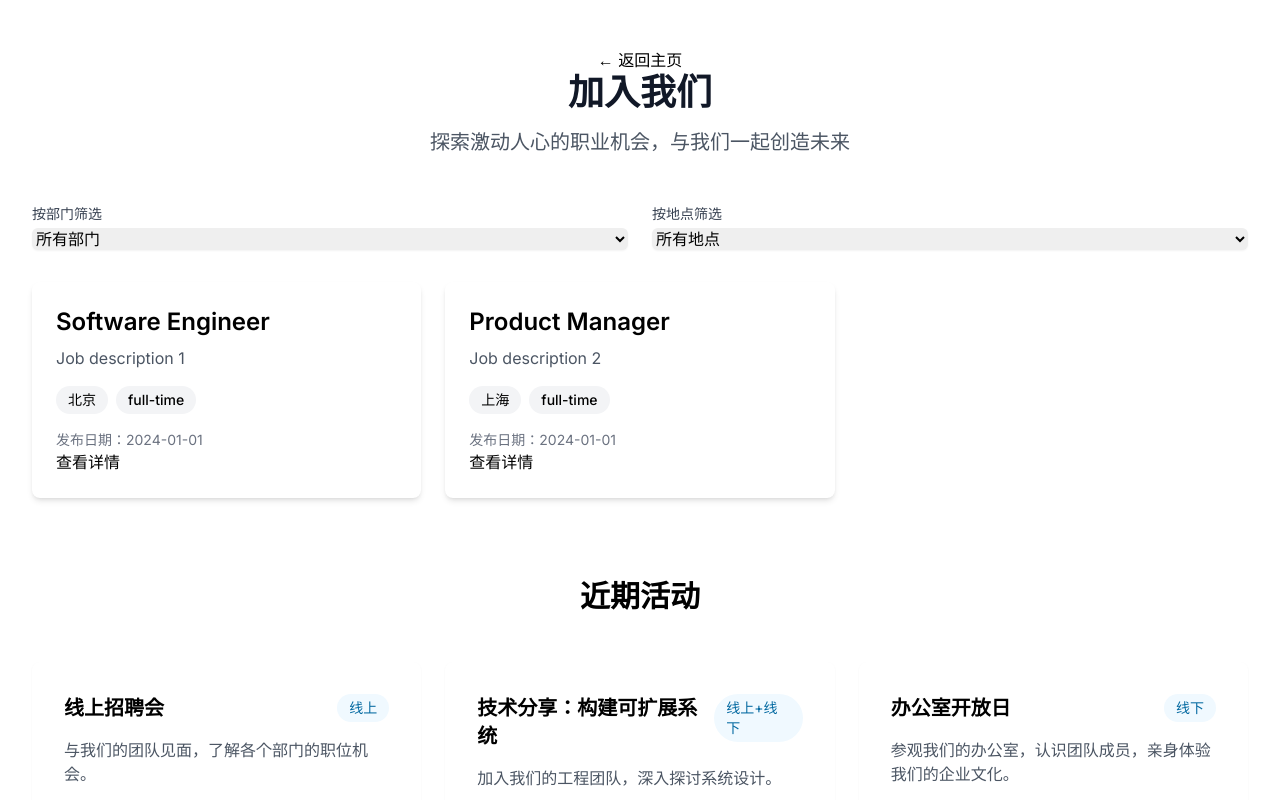
JobsPage › filters jobs by department
The width and height of the screenshot is (1280, 800).
# Select engineering department
Step 1. Select "技术研发" in the dropdown labelled "按部门筛选" → [330, 239], box [32,228,628,250]
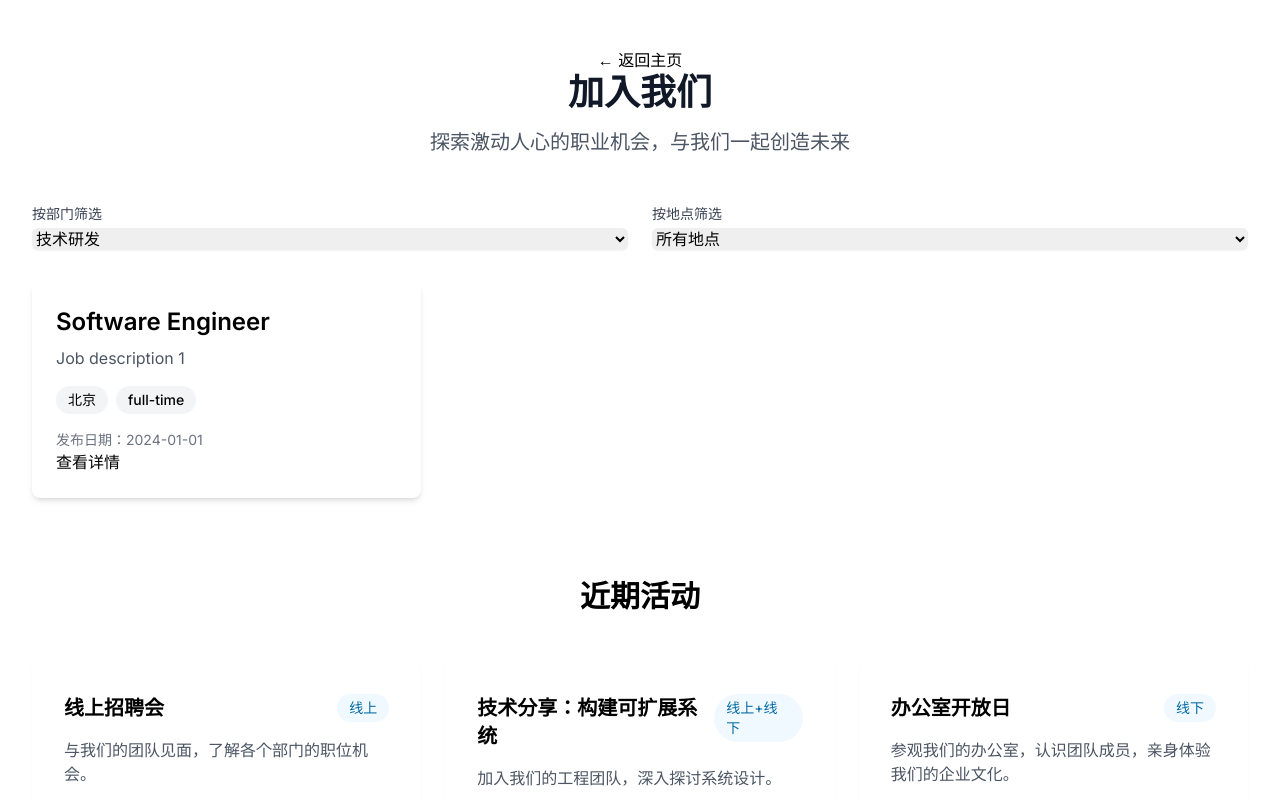
expect the heading "Software Engineer" is shown: met, box [56,307,270,336]
expect the heading "Product Manager" is gone: met
